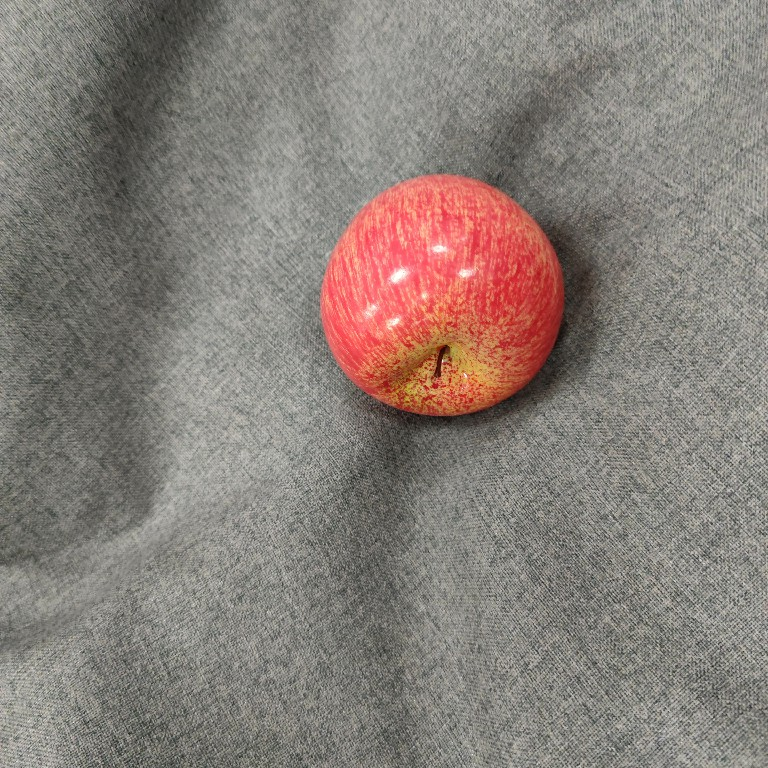fruit_apple: (318, 170, 573, 422)
